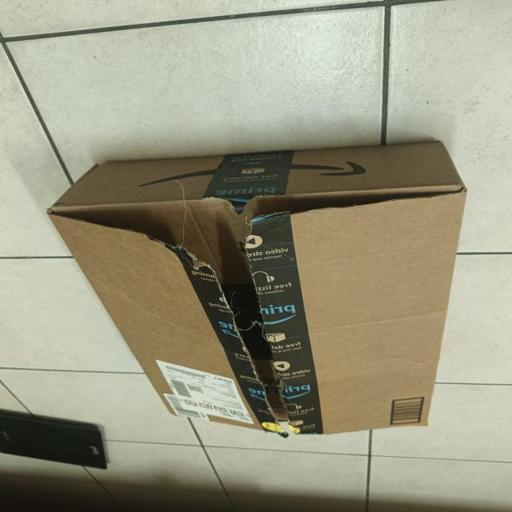Amazon: (52, 139, 464, 436)
